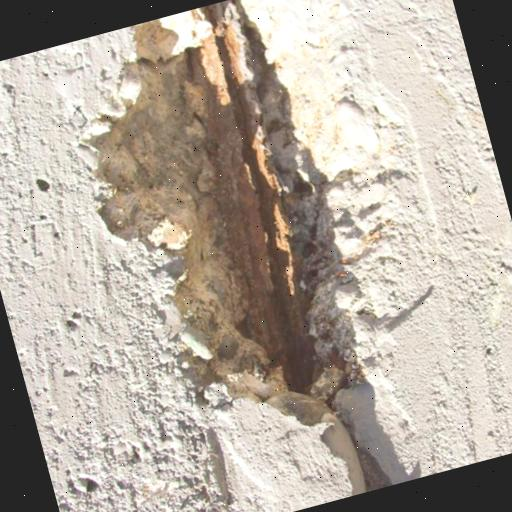spalling: (76, 0, 437, 495)
